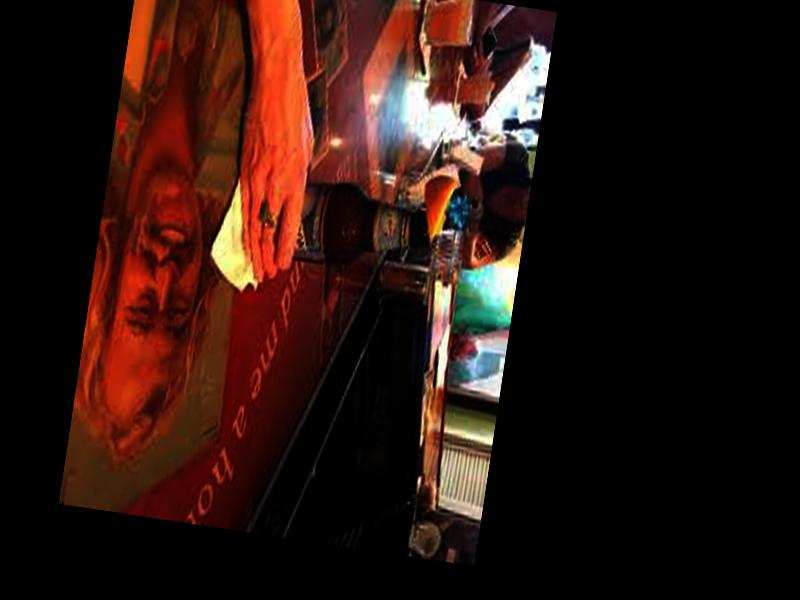Beer: (239, 174, 439, 283)
